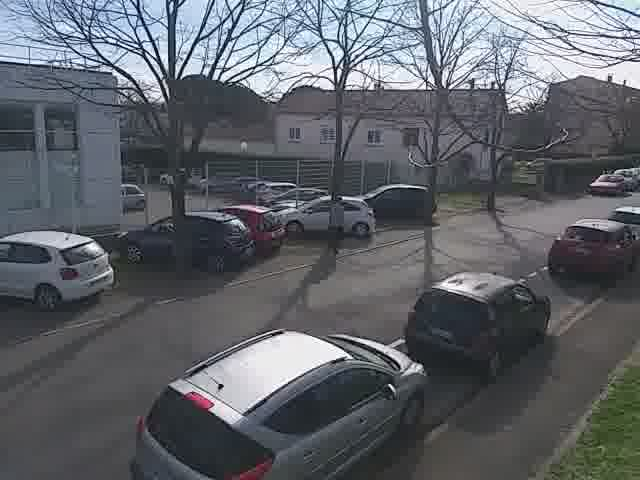persona: (322, 188, 352, 259)
